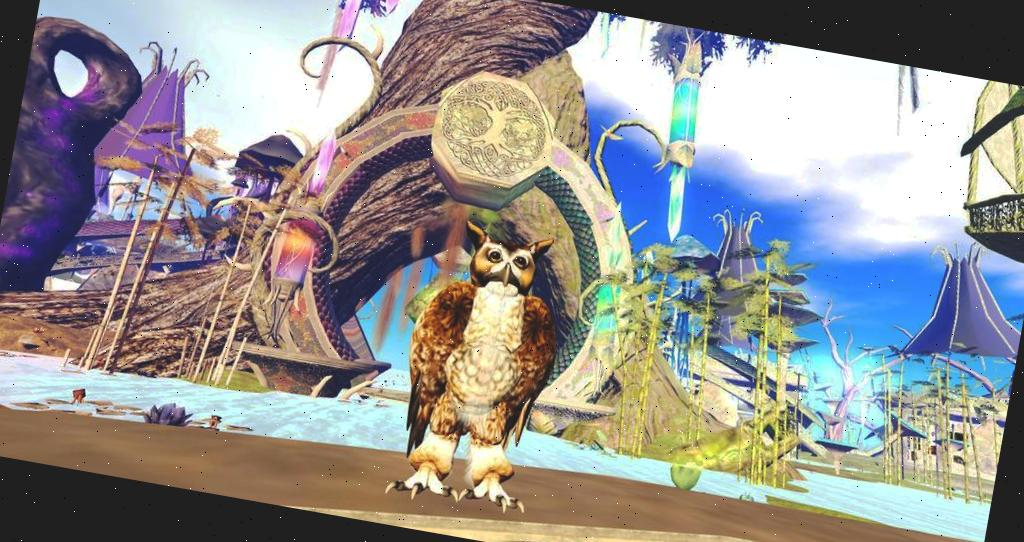Owl: (378, 214, 572, 516)
